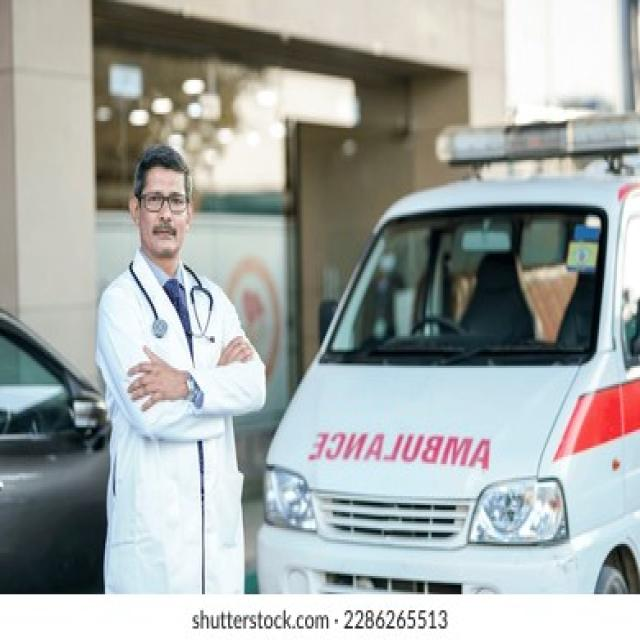ambulance: (259, 173, 640, 596)
